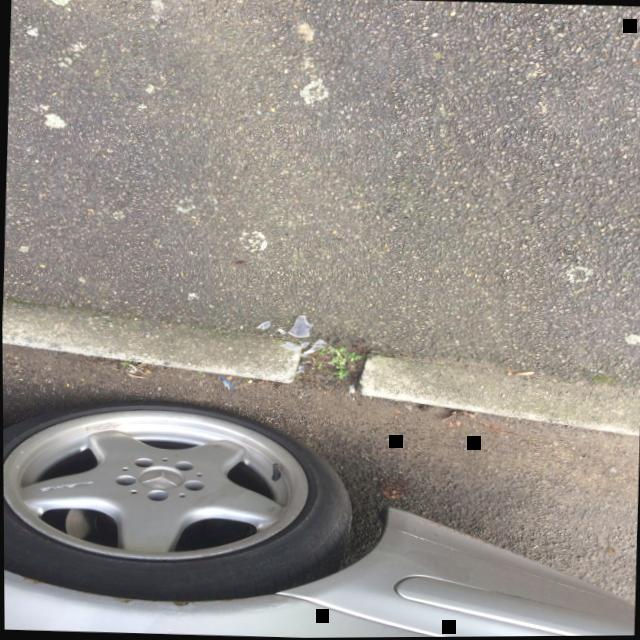Other plastic bottle: (287, 315, 312, 338)
Unlabeled litter: (303, 344, 324, 356), (279, 342, 299, 351), (257, 321, 269, 329), (299, 342, 309, 348), (276, 328, 285, 334), (314, 340, 326, 344)
